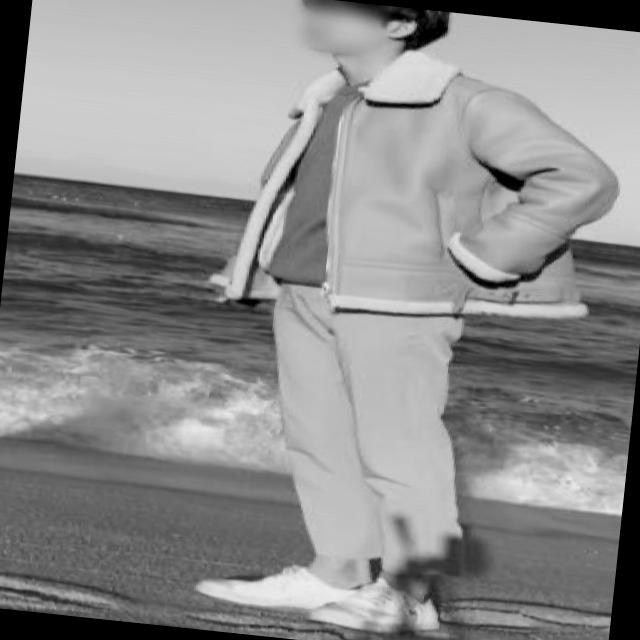cottonpants: (247, 276, 487, 584)
jacket: (216, 34, 632, 340)
